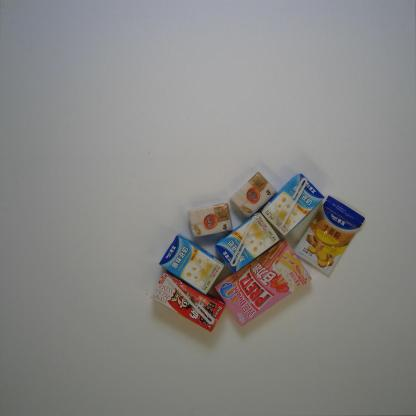Dessert: (214, 236, 312, 327)
Milk: (150, 269, 226, 332), (261, 172, 325, 237), (158, 234, 224, 296), (215, 212, 280, 274)
Seasoner: (294, 195, 365, 276)
Tissue: (229, 171, 277, 219), (188, 202, 233, 238)
